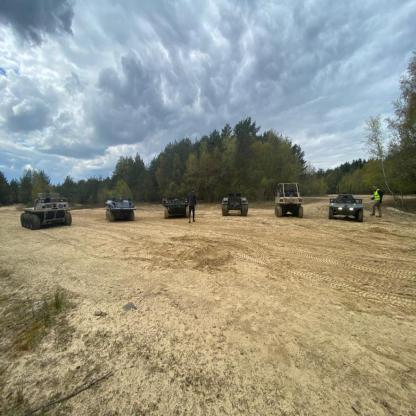Person: (371, 183, 385, 217)
UGV: (18, 190, 76, 228), (273, 191, 304, 222), (328, 197, 366, 222), (105, 196, 138, 224), (161, 193, 190, 221), (221, 194, 249, 219)
